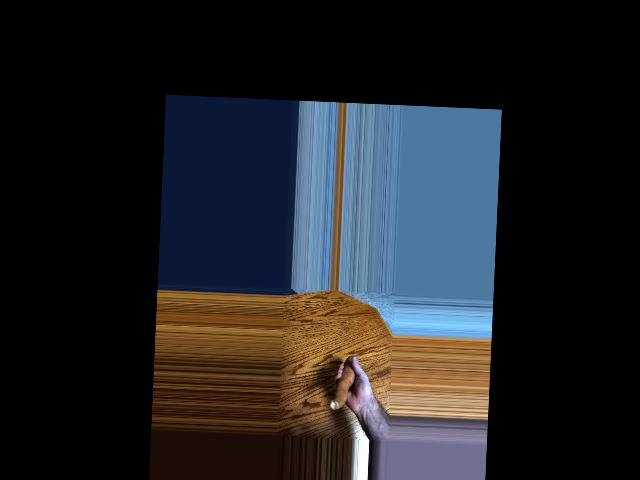sweet_potato: (330, 352, 356, 414)
